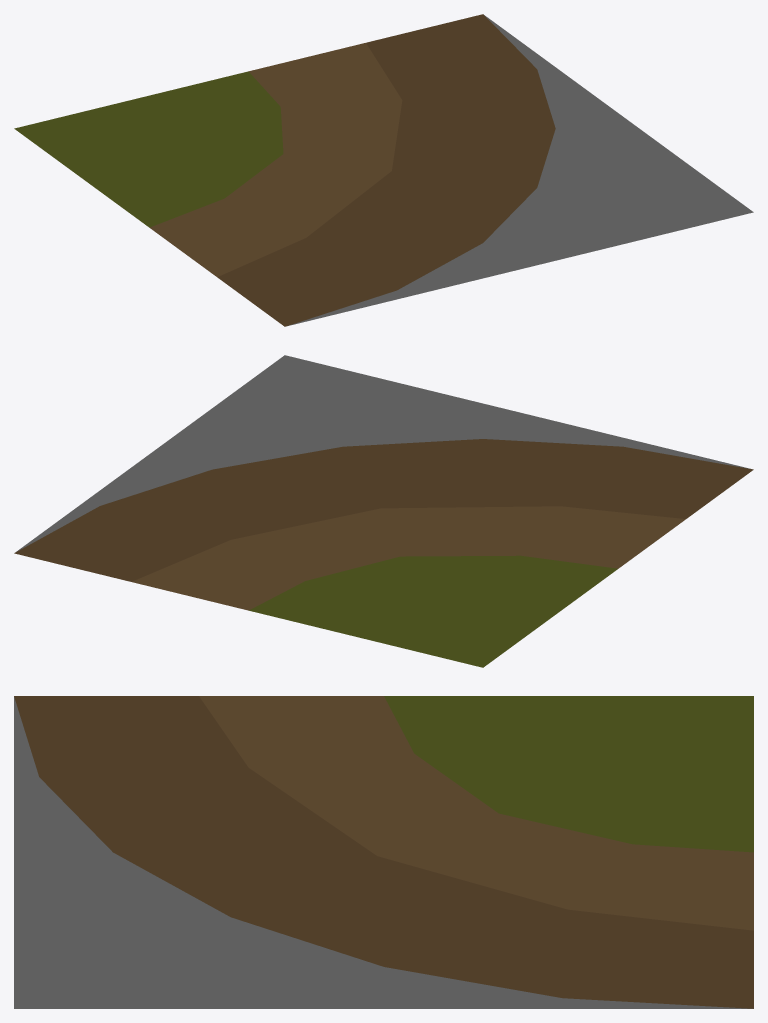
The model's file is SM_dirtEdge_01_corner.glb.
3 views of the same model, one above another, from view 1: azimuth 30°, elevation 25°; view 2: azimuth 150°, elevation 25°; view 3: azimuth 270°, elevation 25° (orthographic). The views are drawn at different scales.
Visible parts, largest first — view 1: SM_dirtEdge_01_corner; view 2: SM_dirtEdge_01_corner; view 3: SM_dirtEdge_01_corner.
Boxes of the visible parts, box(x1,y1,x2,y2) form: SM_dirtEdge_01_corner: box(14, 14, 753, 326); SM_dirtEdge_01_corner: box(14, 355, 753, 667); SM_dirtEdge_01_corner: box(14, 696, 753, 1008).
Bounding box in the file's own units: 4 × 2.45e-16 × 4.
Materials: 1 (1 with a texture image).
